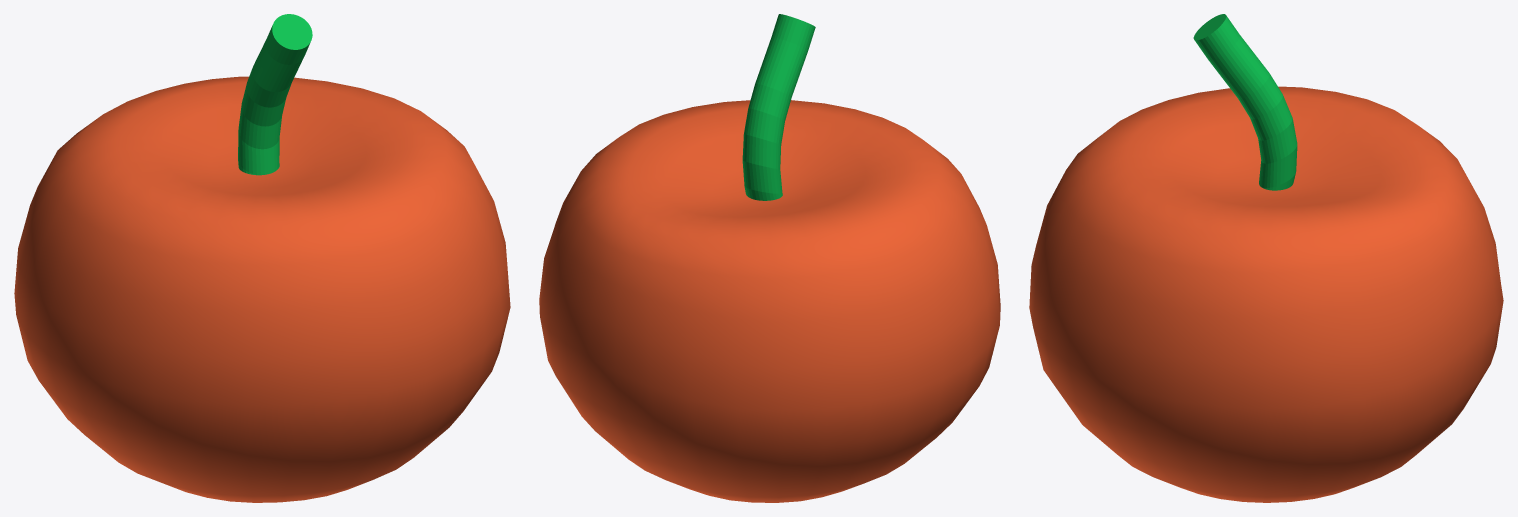
The model's file is Apple.fbx.
3 views of the same model, side by side, from view 1: azimuth 30°, elevation 25°; view 2: azimuth 150°, elevation 25°; view 3: azimuth 270°, elevation 25° (orthographic). The views are drawn at different scales.
Parts seen in each view (by area): view 1: AppleBase; view 2: AppleBase; view 3: AppleBase.
Boxes of the visible parts, x1=… form: AppleBase: x1=14, y1=14, x2=510, y2=502; AppleBase: x1=539, y1=14, x2=1000, y2=502; AppleBase: x1=1029, y1=14, x2=1503, y2=502.
Size of the model in its own units: 200 by 203 by 198.
